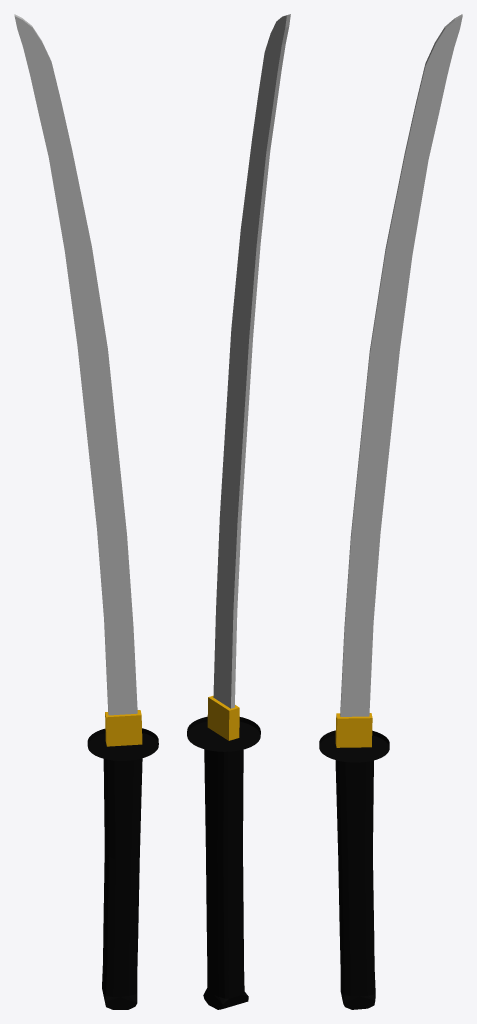
The model's file is katana.glb.
3 renders of one model, left to right at view 1: azimuth 90°, elevation 25°; view 2: azimuth 210°, elevation 25°; view 3: azimuth 270°, elevation 25°, orthographic. The views are drawn at different scales.
Parts seen in each view (by area): view 1: Blade, Grip, Guard, Habaki; view 2: Blade, Grip, Guard, Habaki; view 3: Blade, Grip, Guard, Habaki.
Boxes of the visible parts, box(x1,y1,x2,y2) form: Blade: box(14, 14, 137, 715); Grip: box(102, 744, 142, 1009); Guard: box(87, 728, 158, 760); Habaki: box(105, 710, 142, 746); Blade: box(213, 14, 290, 708); Grip: box(203, 729, 248, 1009); Guard: box(187, 716, 260, 751); Habaki: box(207, 695, 239, 740); Blade: box(340, 14, 462, 716); Grip: box(335, 744, 375, 1009); Guard: box(319, 730, 389, 762); Habaki: box(335, 713, 372, 747).
Size of the model in its own units: 0.4483 by 6.91 by 0.9135.
